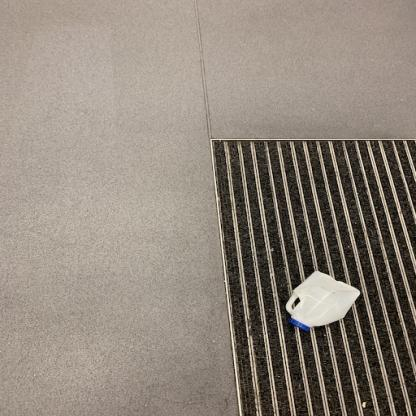trash: (282, 272, 361, 335)
